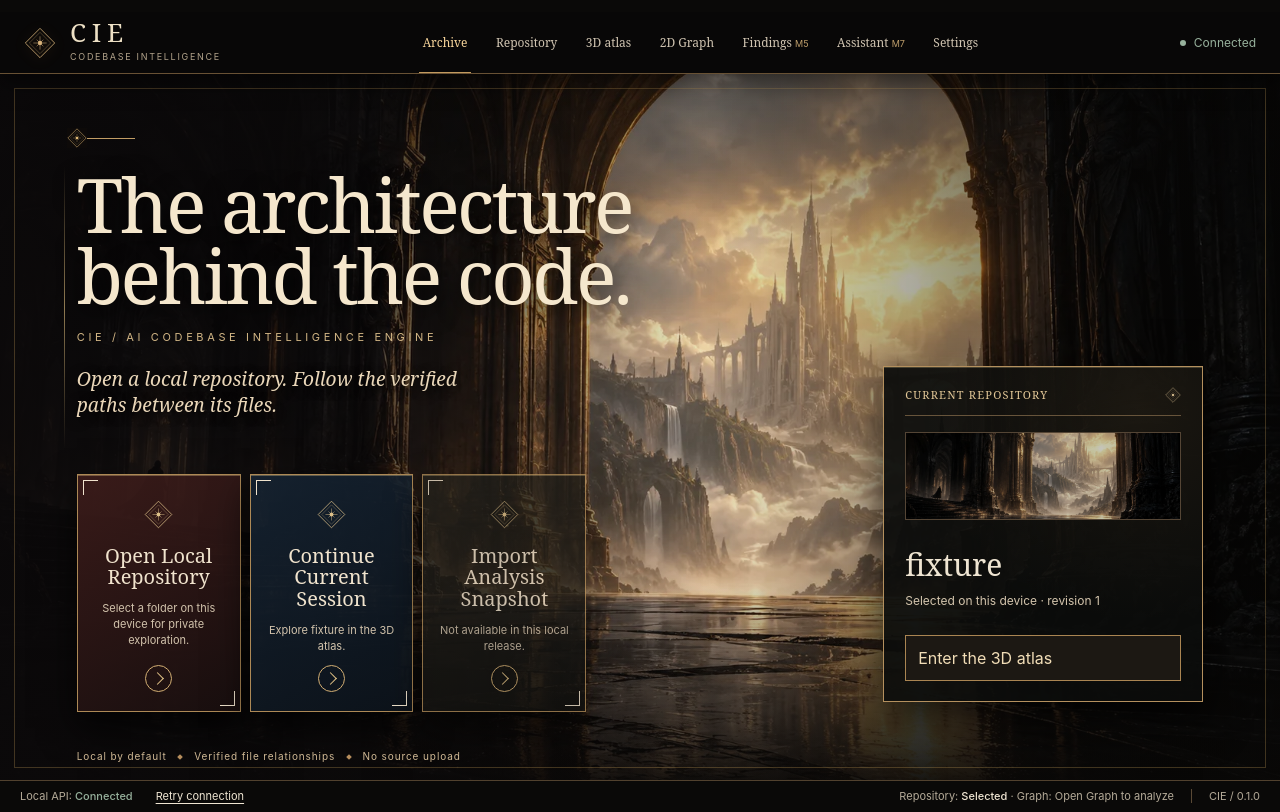
rechecks the in-memory repository after a disconnected to checking to connected recovery
The image size is (1280, 812).
Expected: the heading "fixture" is shown, [905,544,1002,585]
Click the button "Retry connection".
click(200, 796)  # box [150,786,250,806]
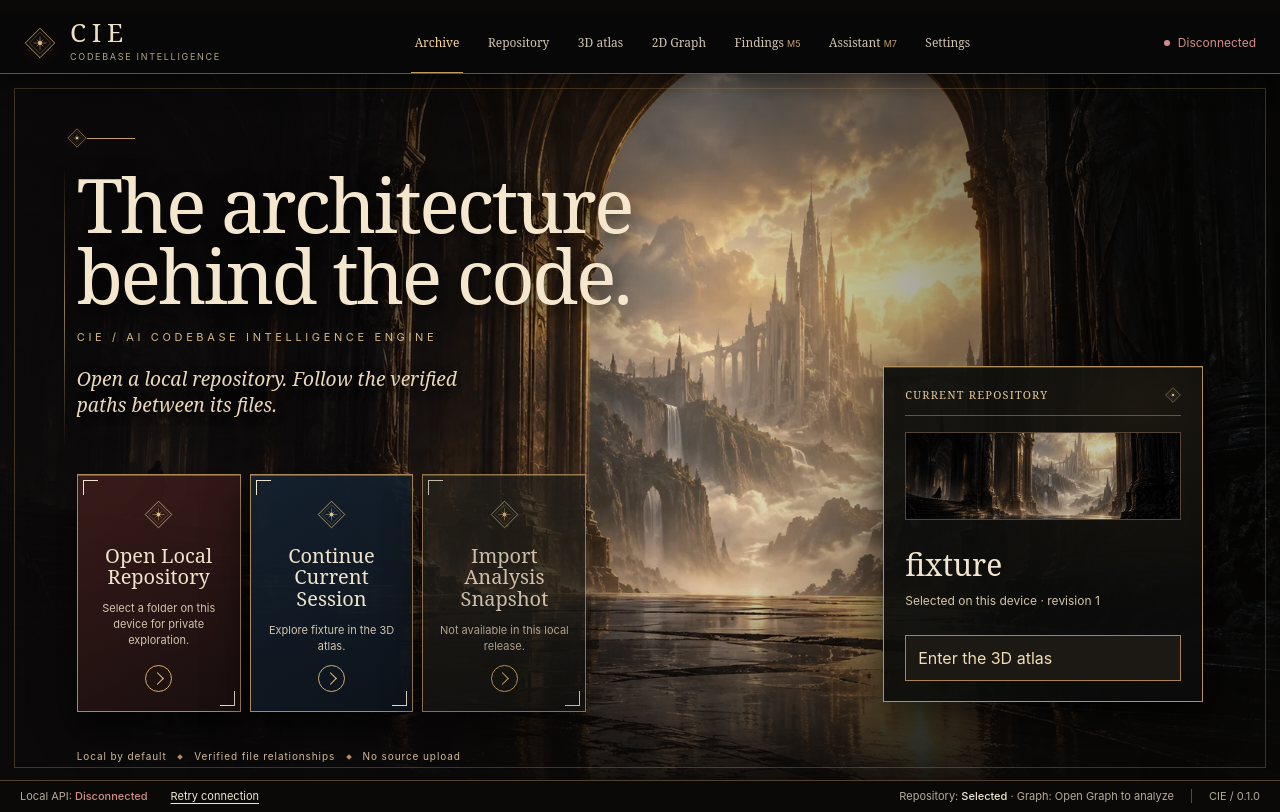
Result: the text "Disconnected" is shown at [1164,35,1256,50]
Click the button "Retry connection".
click(215, 796)  # box [165,786,265,806]
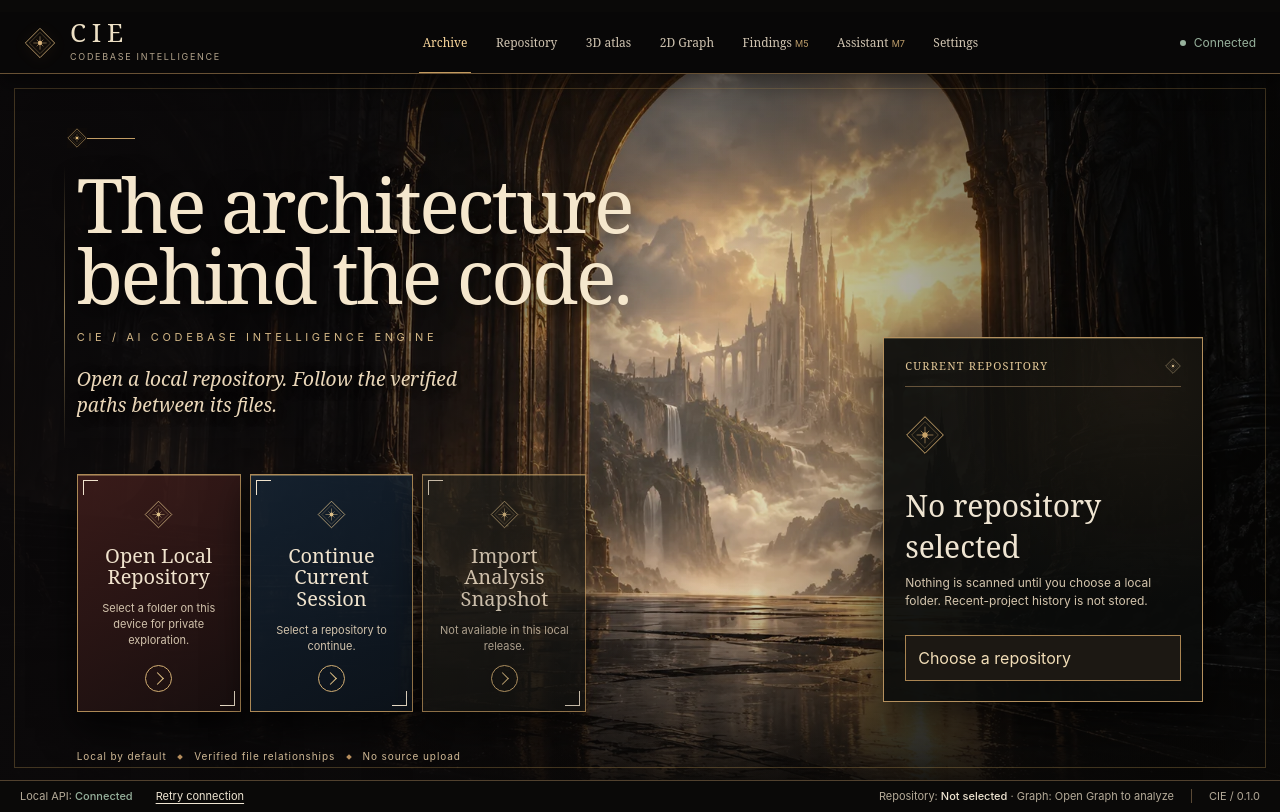
Expected: the text "Connected" is shown, [1180,35,1256,50]
Result: the heading "No repository selected" is shown at [905,485,1101,567]
Result: the button named "Continue Current Session" is disabled at [250,474,413,712]
